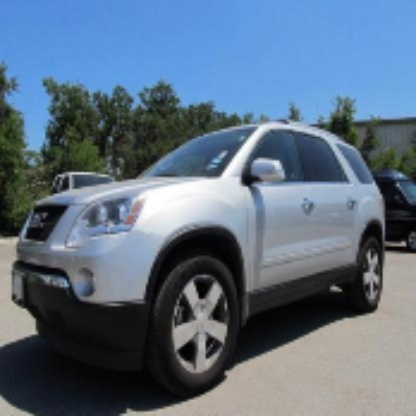Vehicle: (8, 100, 415, 408)
